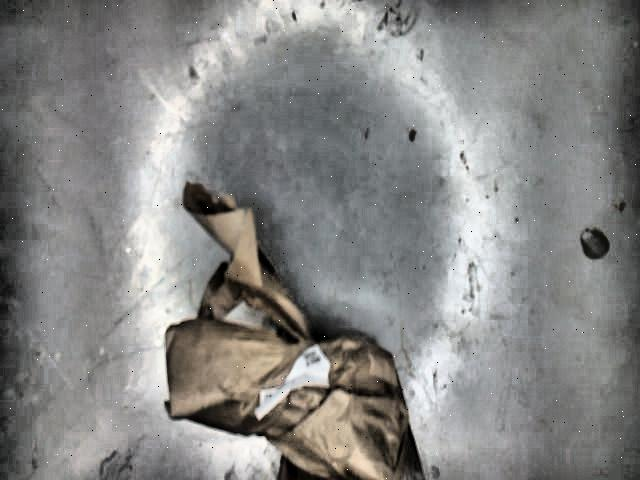Paper: (164, 183, 424, 478)
